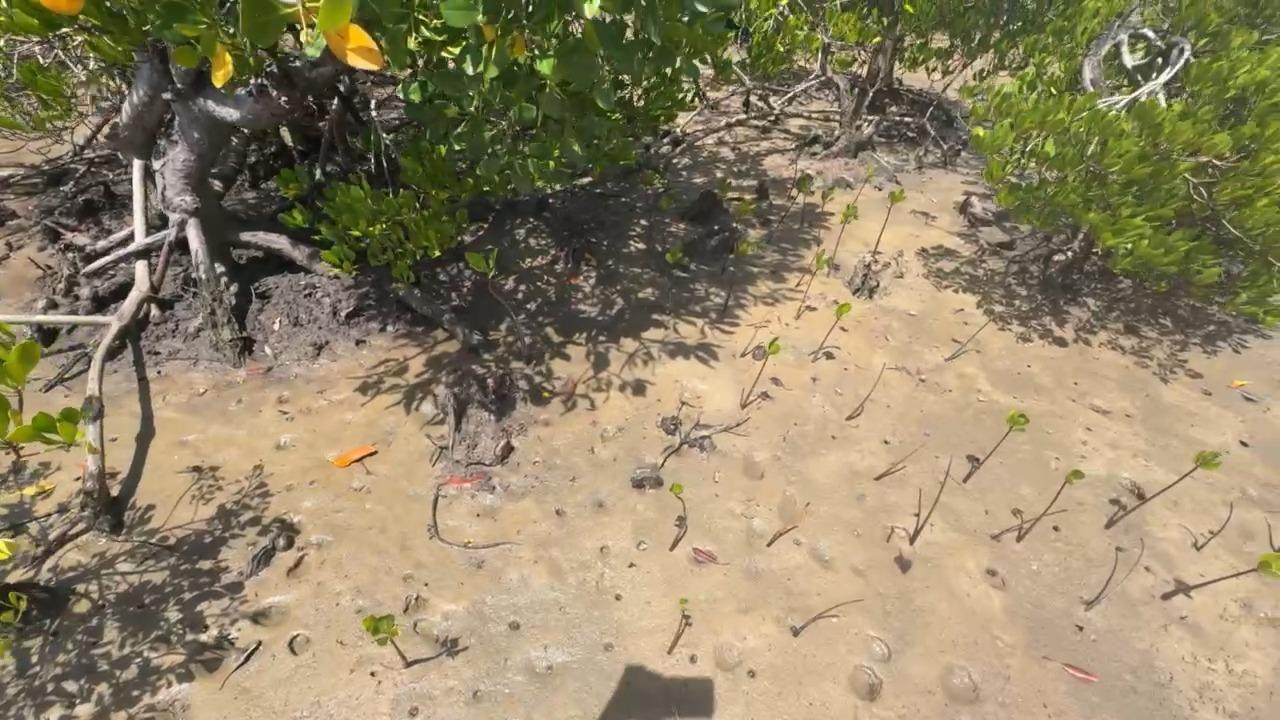Tree: (1106, 450, 1222, 530), (1161, 552, 1280, 601), (1018, 469, 1086, 543), (963, 409, 1030, 483), (909, 454, 952, 546), (795, 248, 832, 321), (742, 336, 780, 407), (810, 302, 852, 363), (871, 188, 908, 257), (844, 362, 886, 422), (363, 614, 408, 668), (826, 204, 858, 278), (945, 317, 994, 361), (722, 236, 749, 314), (873, 448, 920, 481), (667, 598, 691, 655), (664, 240, 682, 315), (817, 186, 836, 248), (851, 164, 878, 205), (797, 175, 816, 227), (669, 482, 686, 517)
